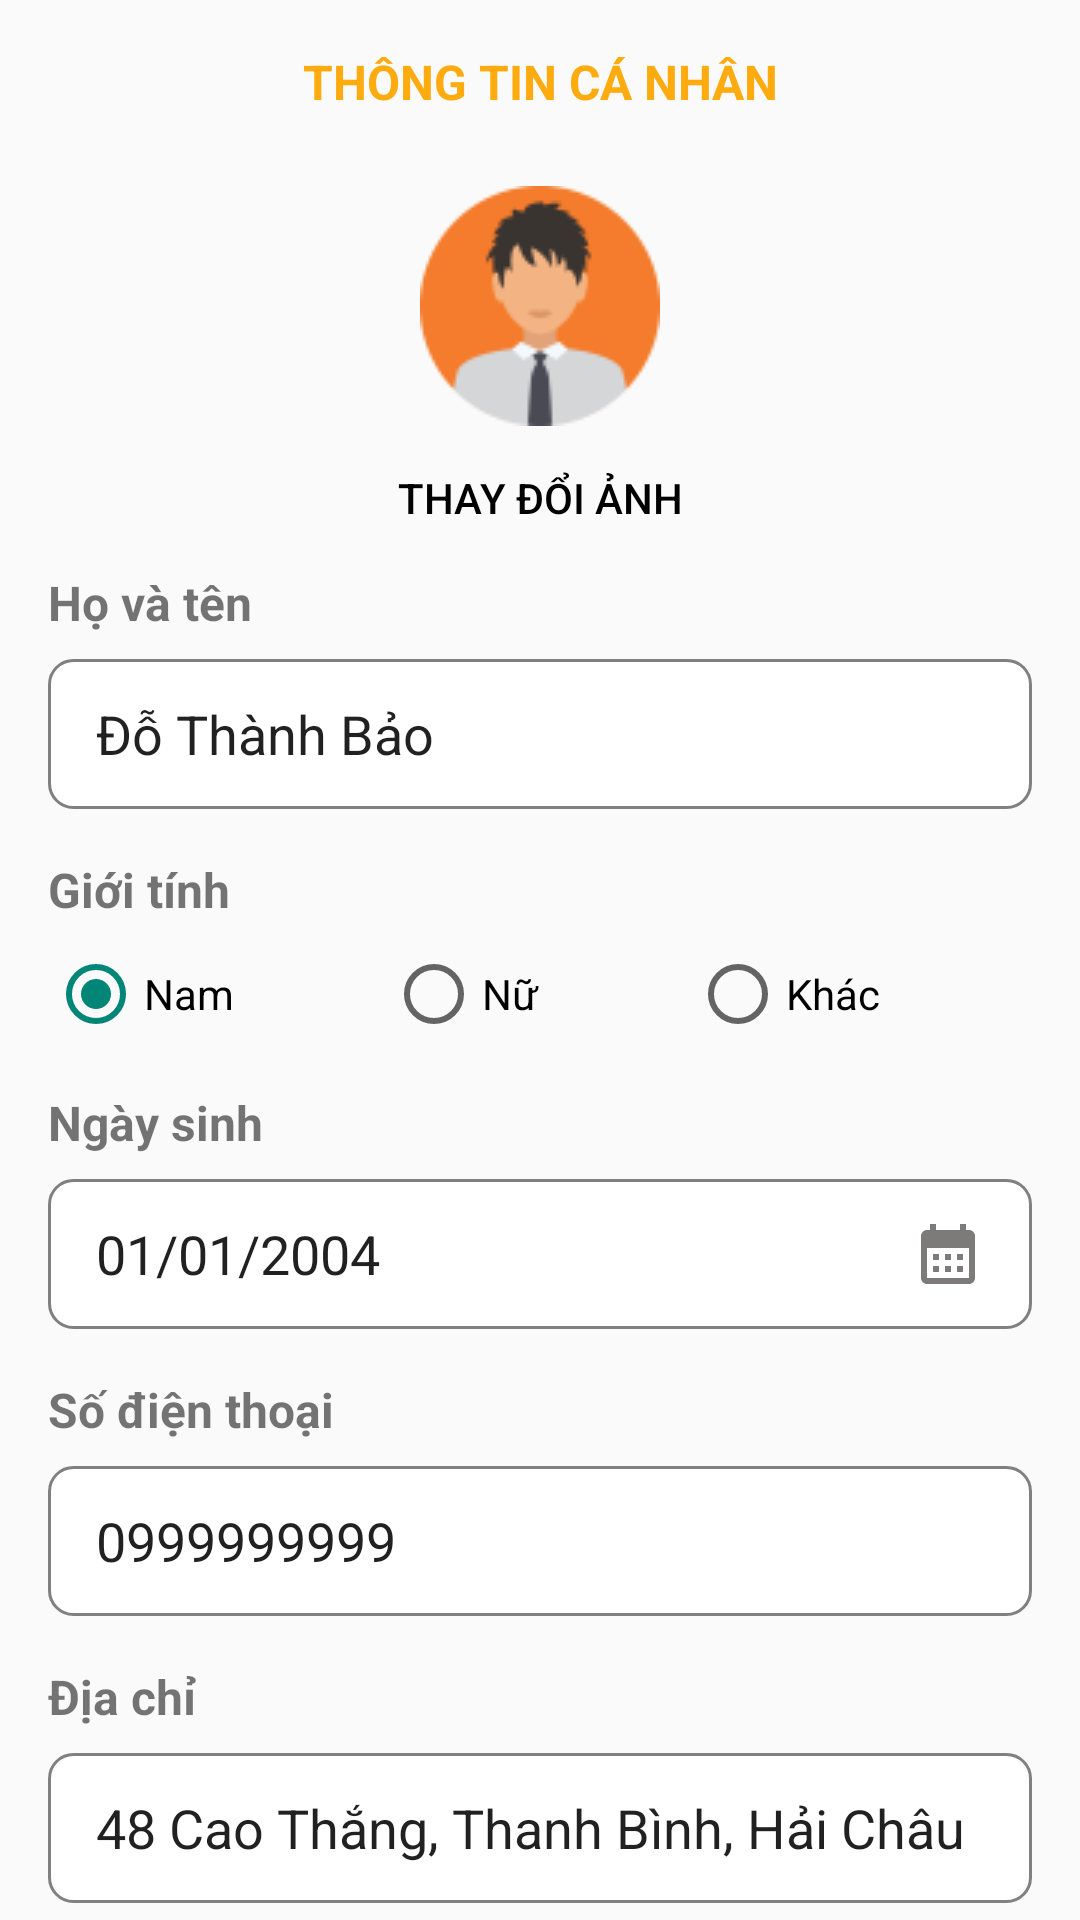

Where icons sit on this 1080*1920 app screen, as (x1, y1, x2, y2):
avt: (420, 186, 660, 426)
